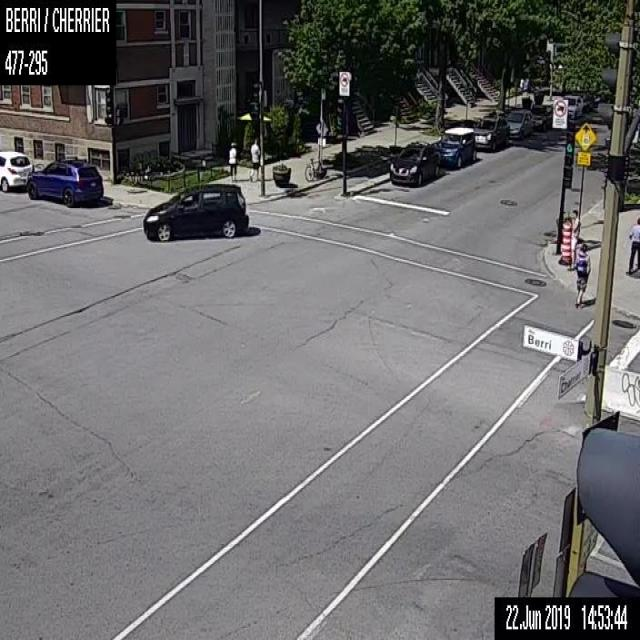construction: (562, 220, 571, 264)
pedestrian: (574, 243, 590, 308), (625, 214, 639, 274), (568, 209, 580, 269), (248, 137, 260, 180), (228, 140, 236, 181)
vehicle: (142, 182, 248, 241), (26, 159, 104, 207), (389, 143, 442, 185), (441, 127, 476, 167), (0, 149, 33, 191), (474, 115, 509, 150), (508, 109, 532, 138), (532, 104, 552, 128), (562, 94, 582, 117)
